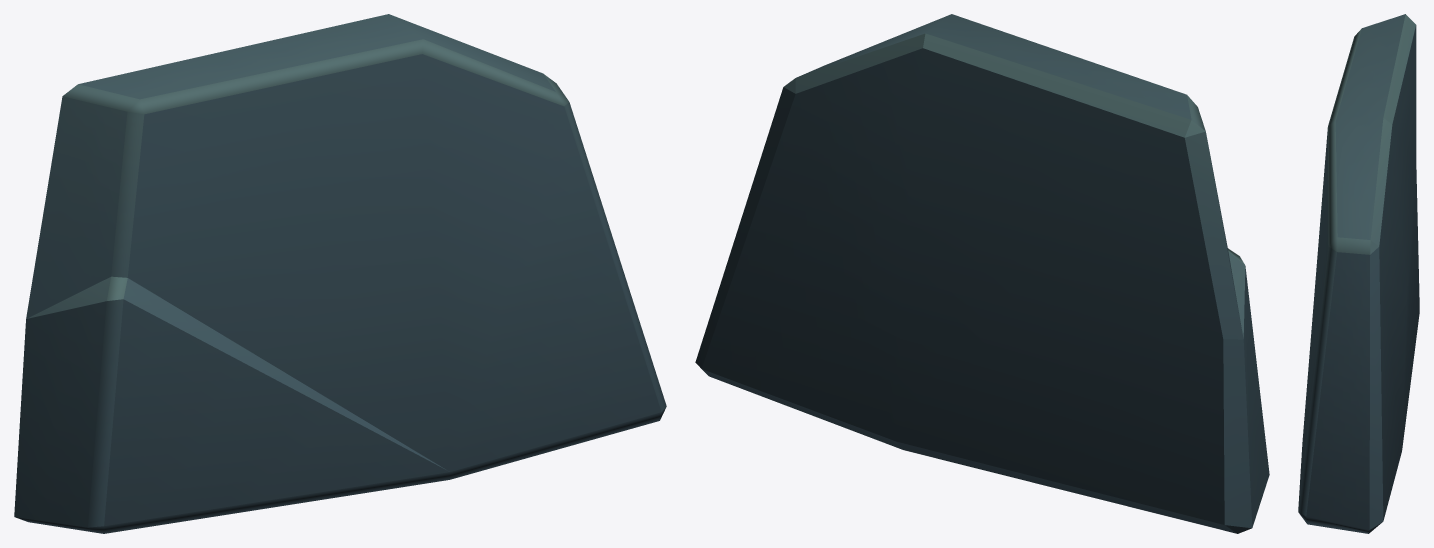
Rendered from rock_large_04.fbx.
The picture shows the model from 3 angles, left to right: view 1: azimuth 30°, elevation 25°; view 2: azimuth 150°, elevation 25°; view 3: azimuth 270°, elevation 25°; orthographic projection. The views are drawn at different scales.
Visible parts, largest first — view 1: rock_large_04; view 2: rock_large_04; view 3: rock_large_04.
Part boxes in pixels (x1,y1,x2,y2): rock_large_04: (14,14,666,533); rock_large_04: (695,14,1269,533); rock_large_04: (1298,14,1419,533).
Bounding box in the file's own units: 1140 × 789 × 257.
